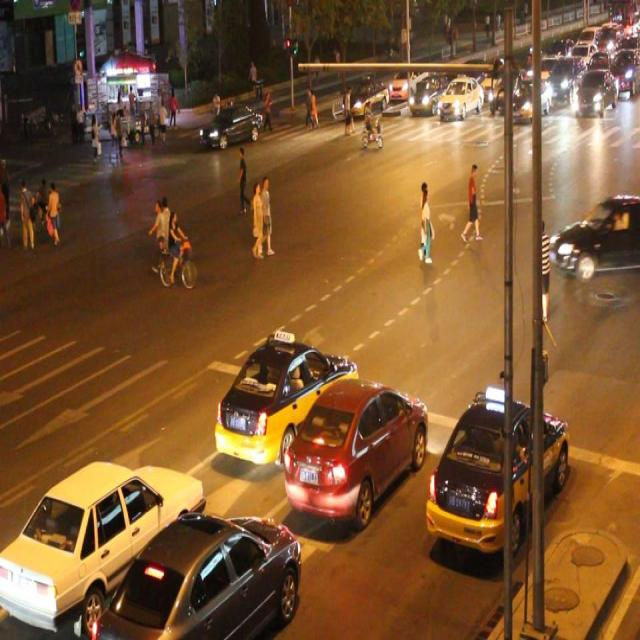car: (1, 454, 204, 632), (90, 508, 301, 640), (427, 393, 567, 560), (284, 376, 427, 528), (217, 334, 357, 470), (546, 192, 640, 280), (201, 102, 262, 146), (342, 74, 387, 119), (438, 77, 482, 117), (406, 73, 445, 115)
